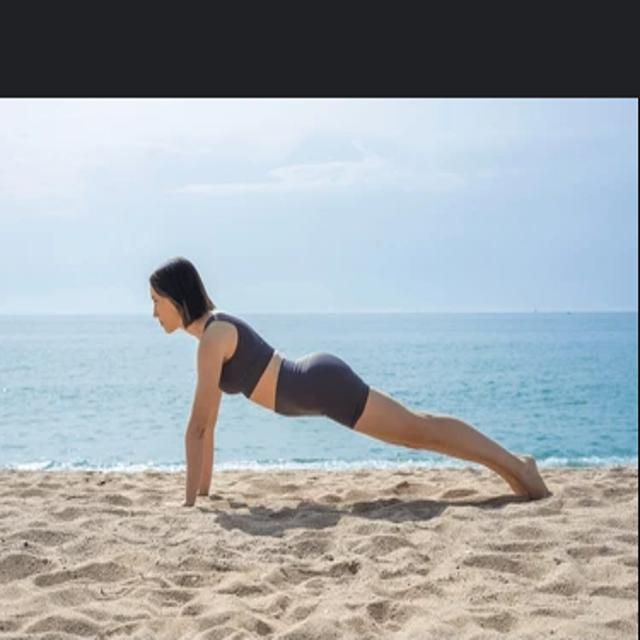Plank_Pose: (141, 244, 562, 510)
